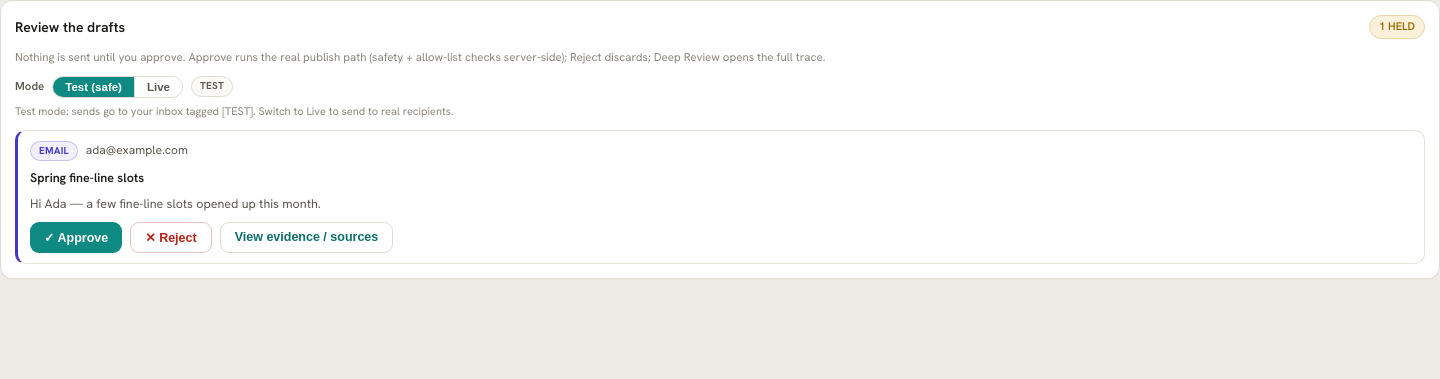
Test case: StagedDraftsReview › Live mode (after confirm) threads live=true into the approve; default is Test
This screenshot has width=1440, height=379.
Step 1. Click the button "Live" → (158, 87), box [134, 77, 182, 97]
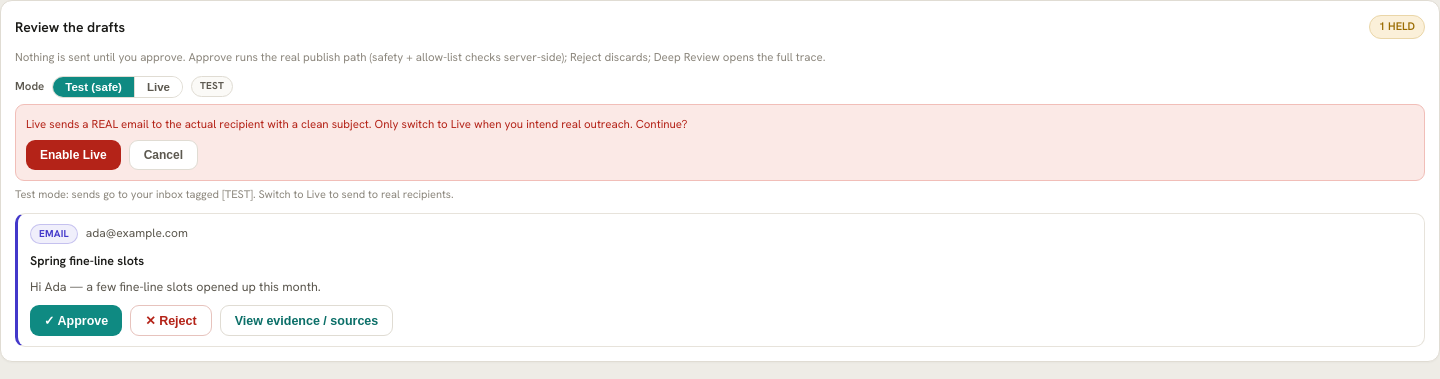
Step 2. Click the button "Enable Live" → (73, 155), box [26, 140, 121, 170]
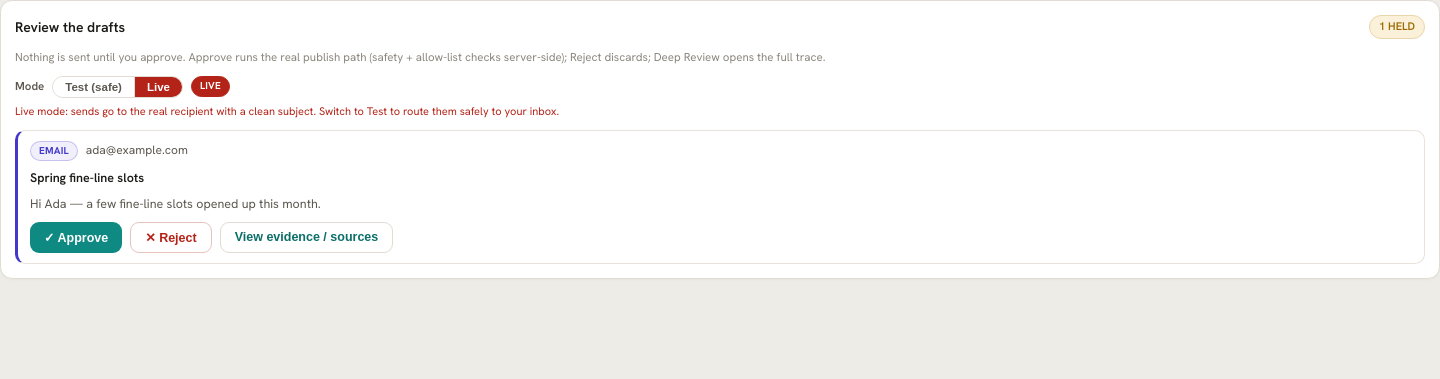
Step 3. Click the button with aria-label "Approve and publish" → (76, 237), box [30, 222, 122, 253]
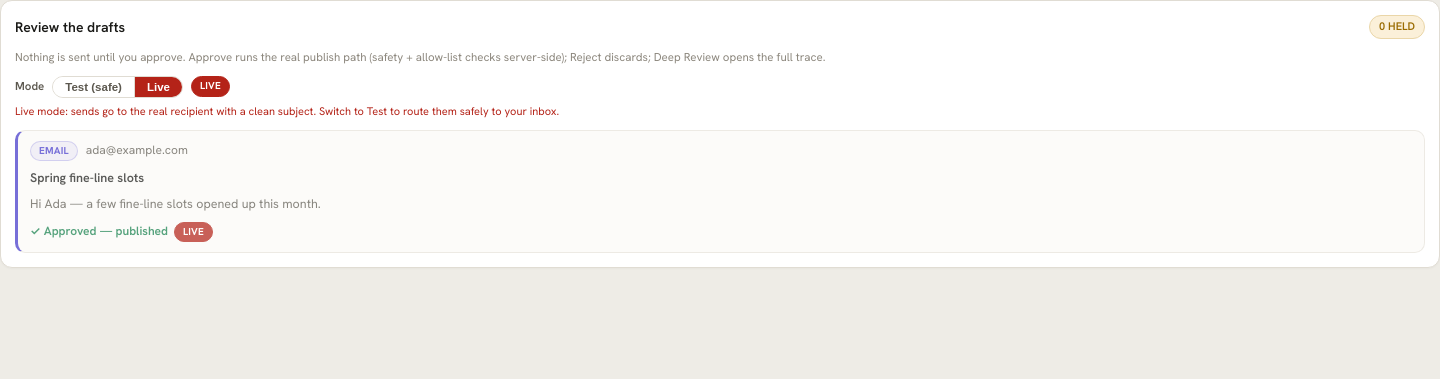
Expected: the text "✓ Approved — published LIVE" is shown, [30, 222, 213, 242]
